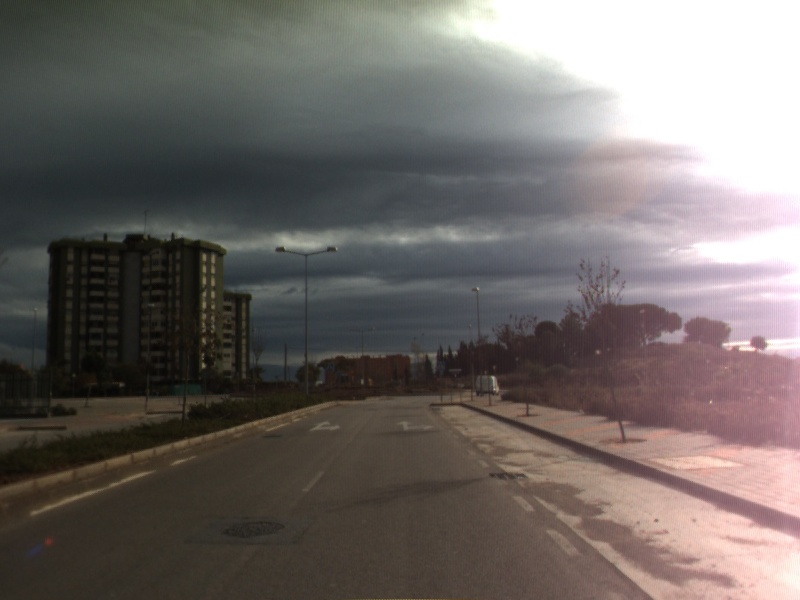STRAIGHT_RIGHT: (395, 418, 436, 433), (307, 419, 342, 433)
